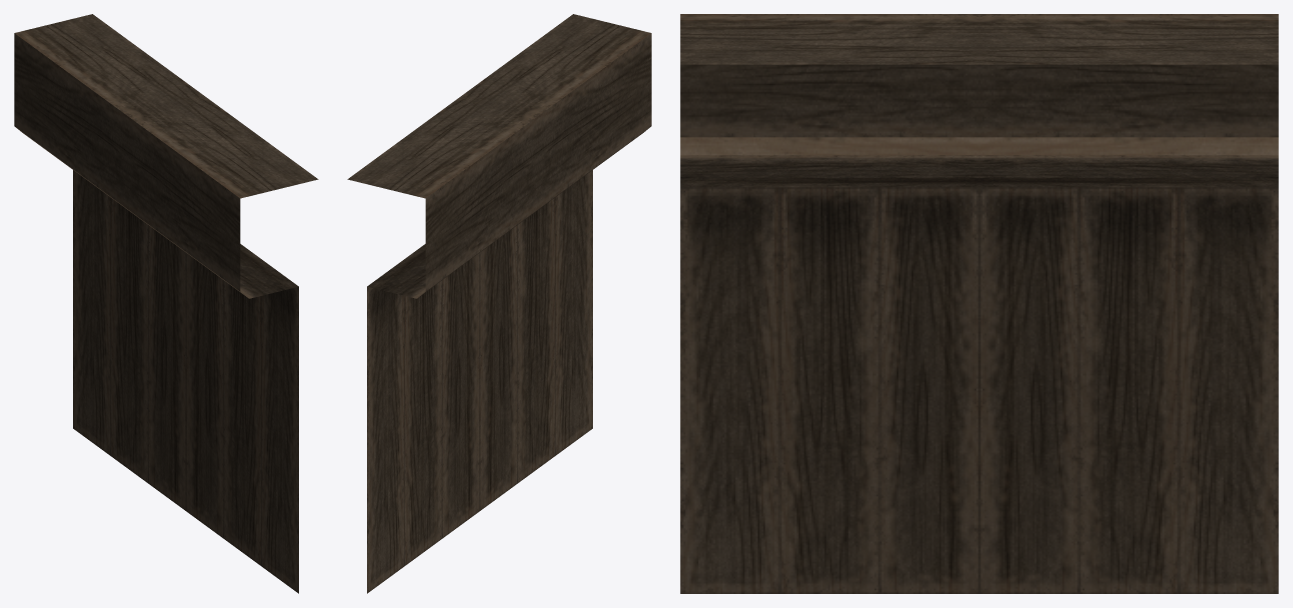
The model's file is Wall Interior Top 2x2 Wood A.fbx.
3 views of the same model, side by side, from view 1: azimuth 30°, elevation 25°; view 2: azimuth 150°, elevation 25°; view 3: azimuth 270°, elevation 25° (orthographic). The views are drawn at different scales.
Parts seen in each view (by area): view 1: Wall Interior Top 2x2 Wood A; view 2: Wall Interior Top 2x2 Wood A; view 3: Wall Interior Top 2x2 Wood A.
Part boxes in pixels (bbox=[...]): Wall Interior Top 2x2 Wood A: bbox=[14, 14, 318, 593]; Wall Interior Top 2x2 Wood A: bbox=[347, 14, 651, 593]; Wall Interior Top 2x2 Wood A: bbox=[680, 14, 1278, 593].
Bounding box in the file's own units: 0.4 × 2 × 2.
